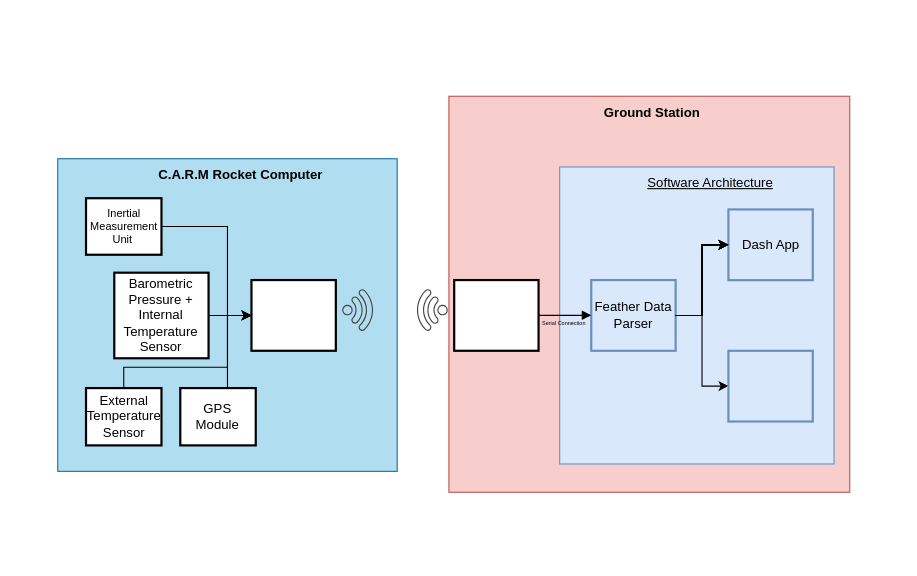
This 917x576 diagram has some shape labels left out. The centre of each missing label's shape, as x and y in pixels:
C.A.R.M Feather M0 Tx: [293,314]
Ground Station Feather M0 Rx: [496,314]
Influx DB: [770,385]
